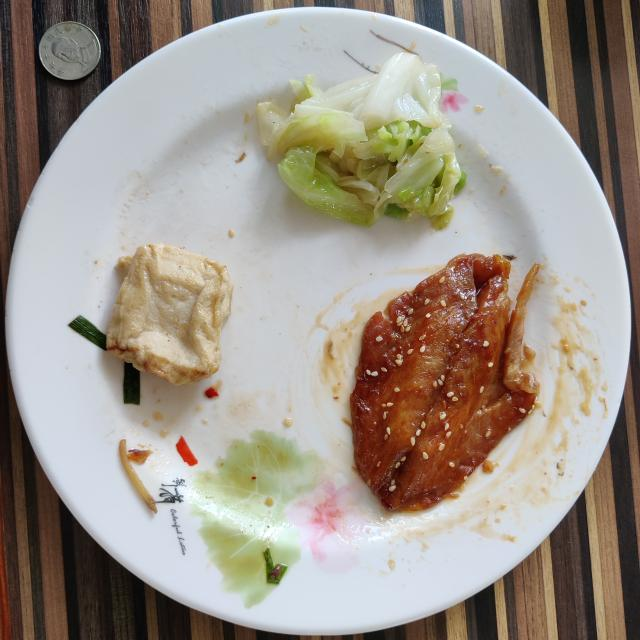Kabayaki sea bream fillet: (350, 254, 539, 510)
cabbage: (258, 52, 466, 229)
coin: (39, 21, 101, 80)
creamy tofu -without sauce-: (106, 244, 232, 385)
